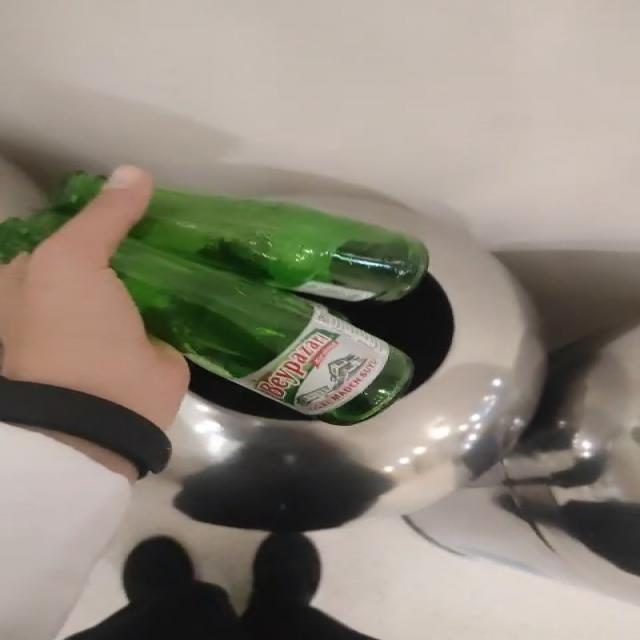glass: (111, 189, 428, 420), (3, 174, 102, 259)
